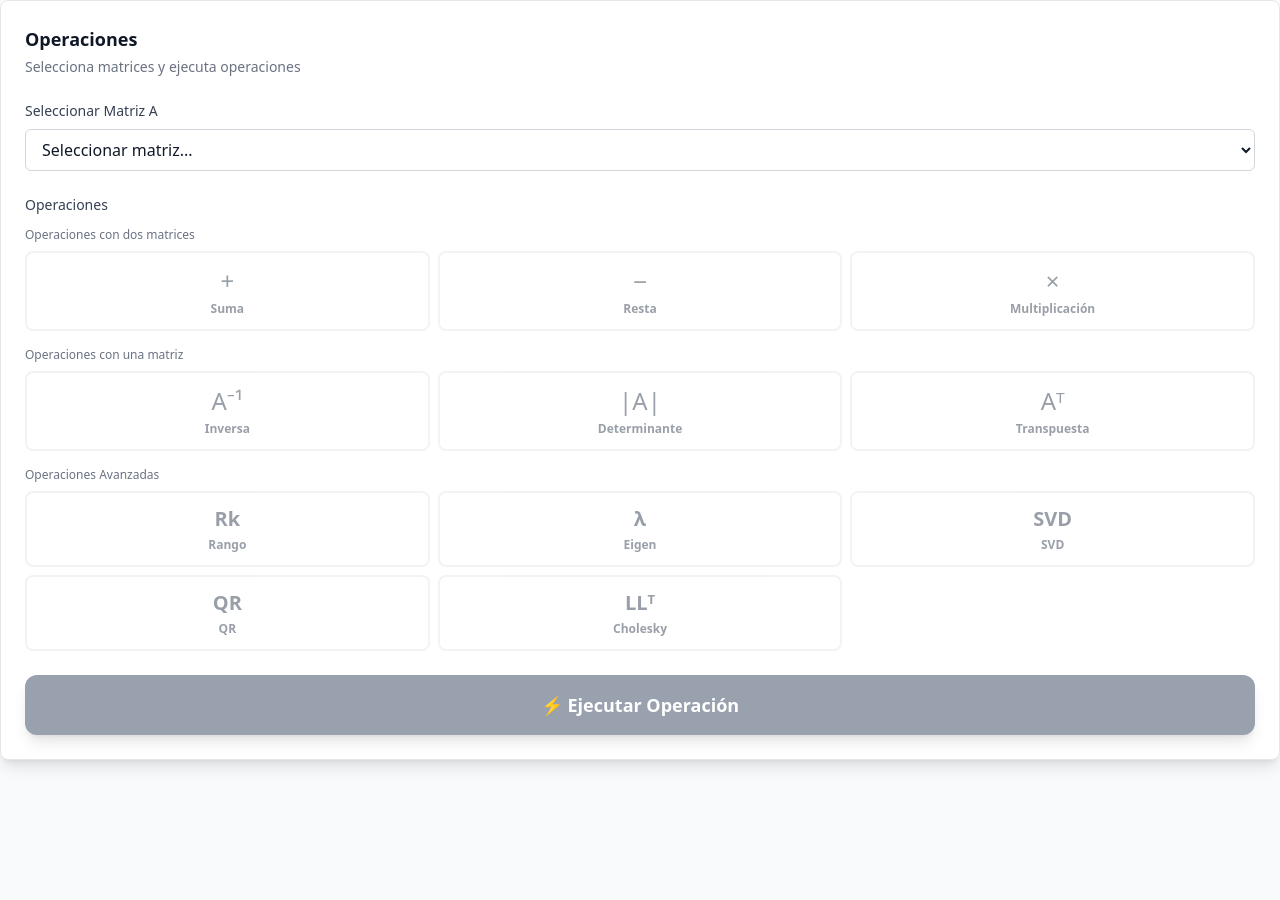
Scenario: OperationPanel › enables execute button when matrices selected and operation chosen
// Select Matrix A
Select "Matrix A (2×2)" in the dropdown. click: (640, 150)
box: [25,129,1255,171]
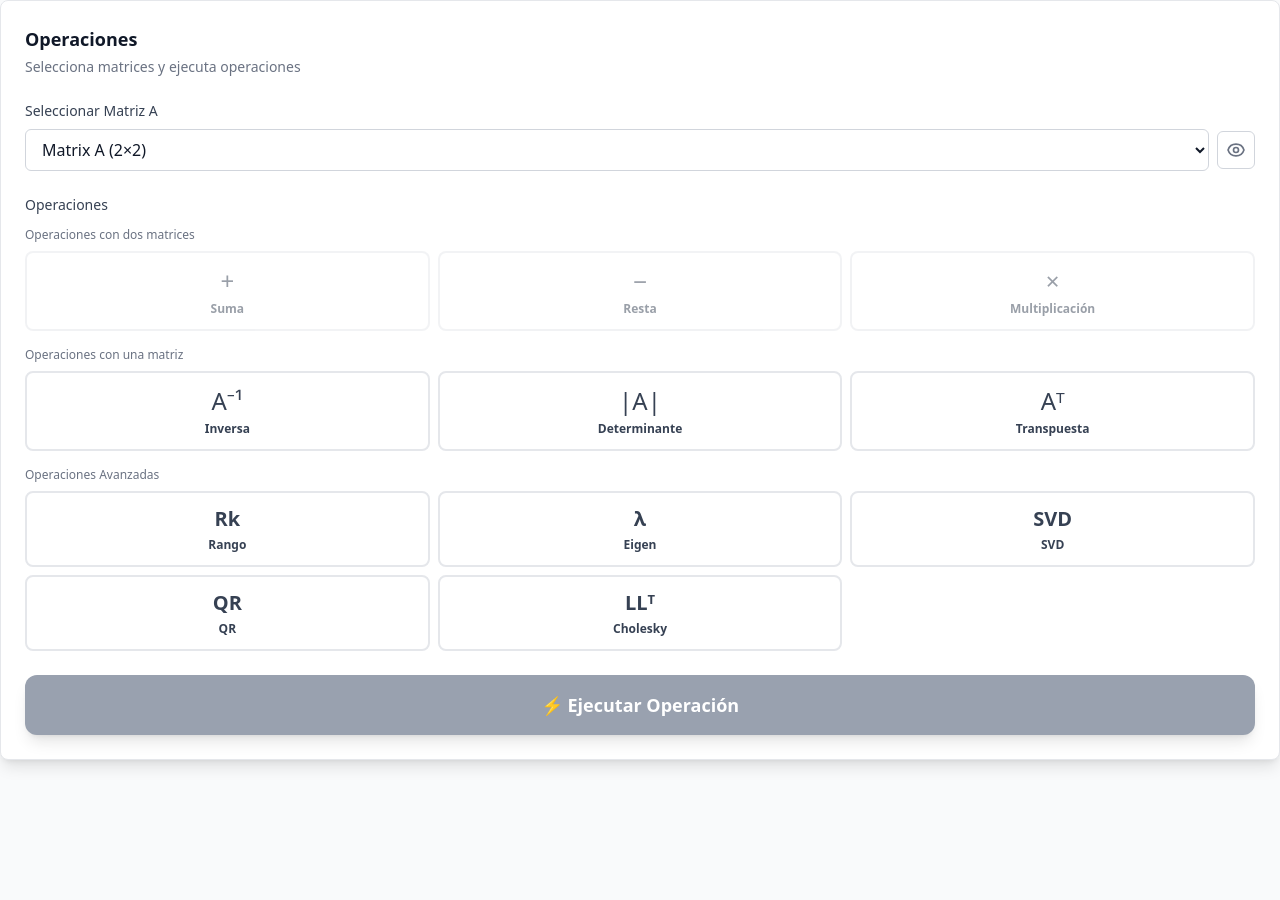
Click the button "Aᵀ Transpuesta". click: (1053, 411)
box: [850,371,1255,451]
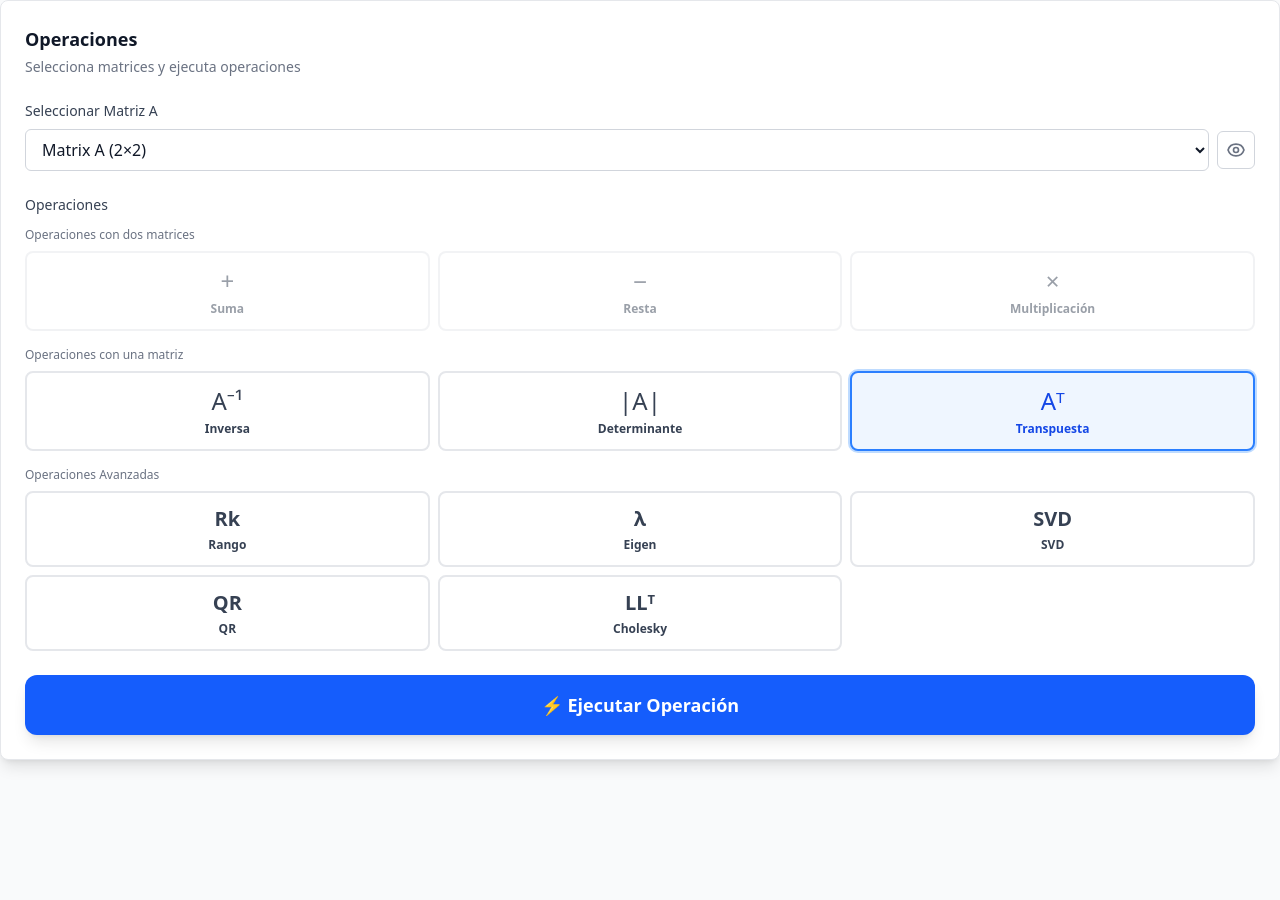
Check: the button "⚡ Ejecutar Operación" is enabled, box [25,675,1255,735]
